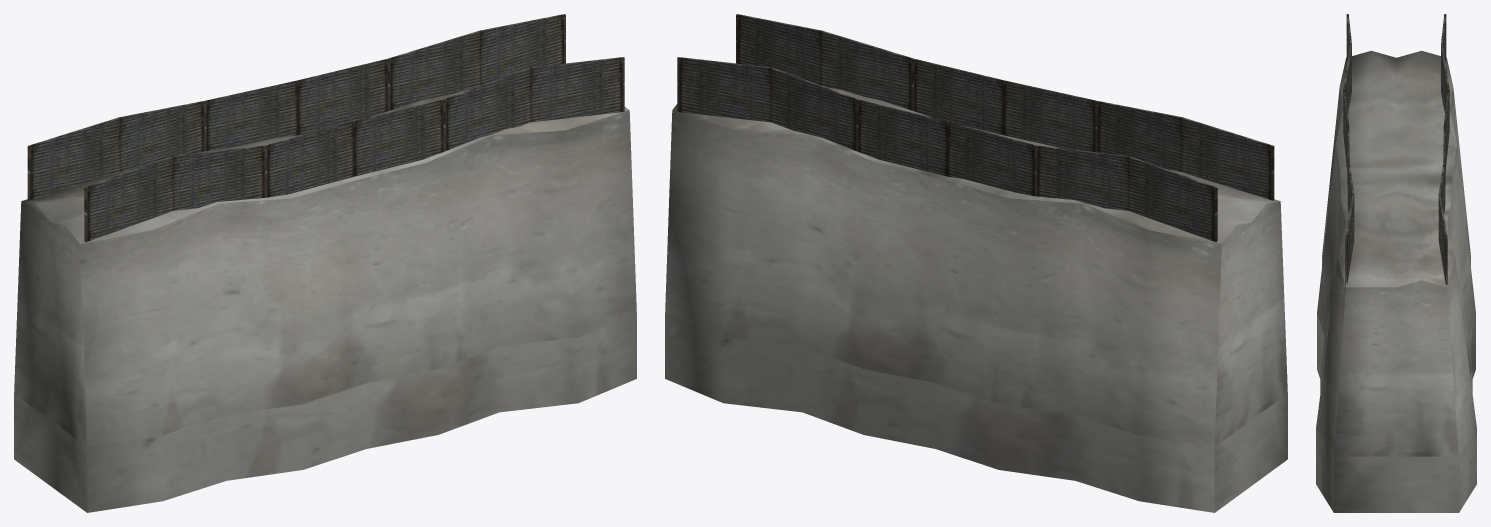
Rendered from wall_medium.dae.
The picture shows the model from 3 angles, left to right: view 1: azimuth 30°, elevation 25°; view 2: azimuth 150°, elevation 25°; view 3: azimuth 270°, elevation 25°; orthographic projection. The views are drawn at different scales.
Parts seen in each view (by area): view 1: wall_medium; view 2: wall_medium; view 3: wall_medium.
Boxes of the visible parts, x1,y1,x2,y2 form: wall_medium: (14, 14, 636, 512); wall_medium: (665, 14, 1287, 512); wall_medium: (1316, 14, 1476, 512).
Bounding box in the file's own units: 28.04 × 8.31 × 15.88.
